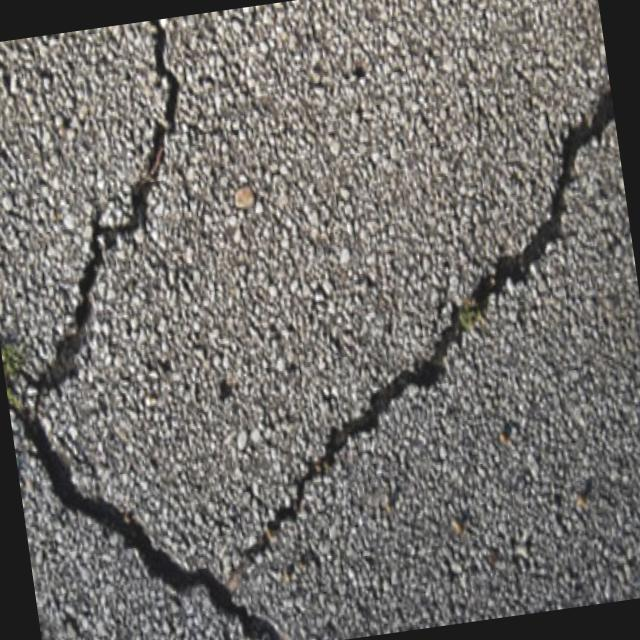crack: (217, 84, 640, 533), (0, 18, 224, 433), (24, 400, 289, 640)
